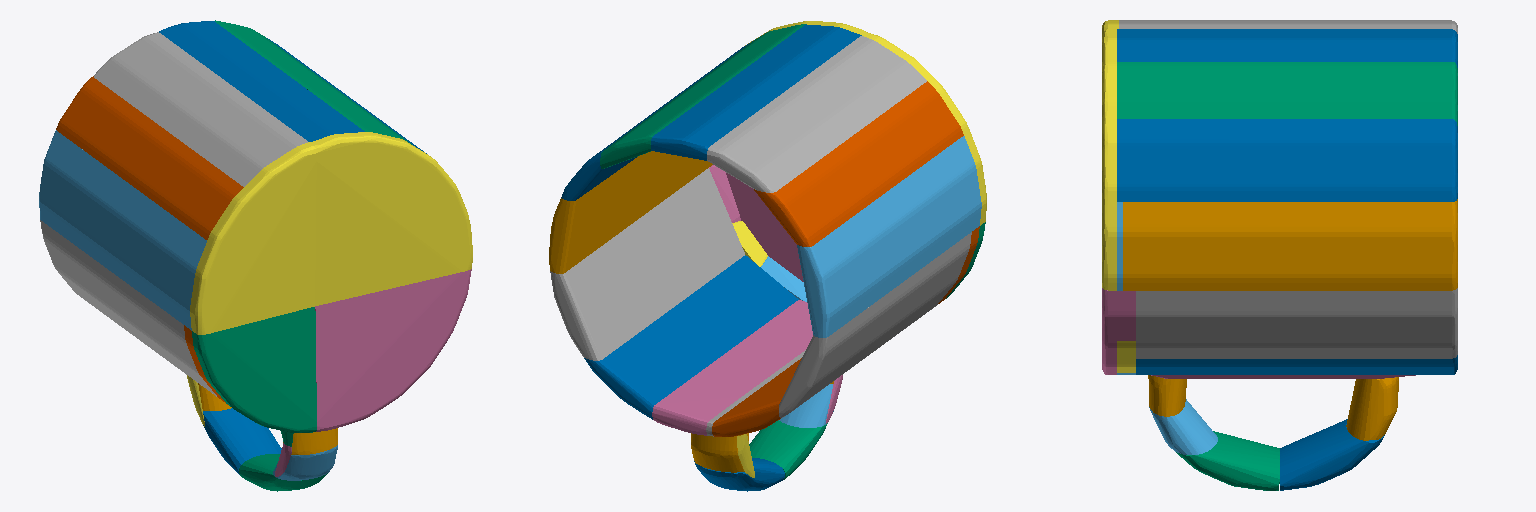
URDF robot description (root):
<robot name="root">
  <link name="link_convex_piece_028.obj">
    <inertial>
      <origin xyz="0 0 0" rpy="0 0 0"/>
    </inertial>
    <visual>
      <origin xyz="0 0 0" rpy="0 0 0"/>
      <geometry>
        <mesh filename="meshes/convex_piece_028.obj" scale="1.0 1.0 1.0"/>
      </geometry>
    </visual>
    <collision>
      <origin xyz="0 0 0" rpy="0 0 0"/>
      <geometry>
        <mesh filename="meshes/convex_piece_028.obj" scale="1.0 1.0 1.0"/>
      </geometry>
    </collision>
  </link>
  <link name="link_convex_piece_018.obj">
    <inertial>
      <origin xyz="0 0 0" rpy="0 0 0"/>
    </inertial>
    <visual>
      <origin xyz="0 0 0" rpy="0 0 0"/>
      <geometry>
        <mesh filename="meshes/convex_piece_018.obj" scale="1.0 1.0 1.0"/>
      </geometry>
    </visual>
    <collision>
      <origin xyz="0 0 0" rpy="0 0 0"/>
      <geometry>
        <mesh filename="meshes/convex_piece_018.obj" scale="1.0 1.0 1.0"/>
      </geometry>
    </collision>
  </link>
  <joint name="link_convex_piece_018.obj_joint" type="fixed">
    <origin xyz="0 0 0" rpy="0 0 0"/>
    <parent link="link_convex_piece_028.obj"/>
    <child link="link_convex_piece_018.obj"/>
  </joint>
  <link name="link_convex_piece_026.obj">
    <inertial>
      <origin xyz="0 0 0" rpy="0 0 0"/>
    </inertial>
    <visual>
      <origin xyz="0 0 0" rpy="0 0 0"/>
      <geometry>
        <mesh filename="meshes/convex_piece_026.obj" scale="1.0 1.0 1.0"/>
      </geometry>
    </visual>
    <collision>
      <origin xyz="0 0 0" rpy="0 0 0"/>
      <geometry>
        <mesh filename="meshes/convex_piece_026.obj" scale="1.0 1.0 1.0"/>
      </geometry>
    </collision>
  </link>
  <joint name="link_convex_piece_026.obj_joint" type="fixed">
    <origin xyz="0 0 0" rpy="0 0 0"/>
    <parent link="link_convex_piece_018.obj"/>
    <child link="link_convex_piece_026.obj"/>
  </joint>
  <link name="link_convex_piece_021.obj">
    <inertial>
      <origin xyz="0 0 0" rpy="0 0 0"/>
    </inertial>
    <visual>
      <origin xyz="0 0 0" rpy="0 0 0"/>
      <geometry>
        <mesh filename="meshes/convex_piece_021.obj" scale="1.0 1.0 1.0"/>
      </geometry>
    </visual>
    <collision>
      <origin xyz="0 0 0" rpy="0 0 0"/>
      <geometry>
        <mesh filename="meshes/convex_piece_021.obj" scale="1.0 1.0 1.0"/>
      </geometry>
    </collision>
  </link>
  <joint name="link_convex_piece_021.obj_joint" type="fixed">
    <origin xyz="0 0 0" rpy="0 0 0"/>
    <parent link="link_convex_piece_026.obj"/>
    <child link="link_convex_piece_021.obj"/>
  </joint>
  <link name="link_convex_piece_030.obj">
    <inertial>
      <origin xyz="0 0 0" rpy="0 0 0"/>
    </inertial>
    <visual>
      <origin xyz="0 0 0" rpy="0 0 0"/>
      <geometry>
        <mesh filename="meshes/convex_piece_030.obj" scale="1.0 1.0 1.0"/>
      </geometry>
    </visual>
    <collision>
      <origin xyz="0 0 0" rpy="0 0 0"/>
      <geometry>
        <mesh filename="meshes/convex_piece_030.obj" scale="1.0 1.0 1.0"/>
      </geometry>
    </collision>
  </link>
  <joint name="link_convex_piece_030.obj_joint" type="fixed">
    <origin xyz="0 0 0" rpy="0 0 0"/>
    <parent link="link_convex_piece_021.obj"/>
    <child link="link_convex_piece_030.obj"/>
  </joint>
  <link name="link_convex_piece_012.obj">
    <inertial>
      <origin xyz="0 0 0" rpy="0 0 0"/>
    </inertial>
    <visual>
      <origin xyz="0 0 0" rpy="0 0 0"/>
      <geometry>
        <mesh filename="meshes/convex_piece_012.obj" scale="1.0 1.0 1.0"/>
      </geometry>
    </visual>
    <collision>
      <origin xyz="0 0 0" rpy="0 0 0"/>
      <geometry>
        <mesh filename="meshes/convex_piece_012.obj" scale="1.0 1.0 1.0"/>
      </geometry>
    </collision>
  </link>
  <joint name="link_convex_piece_012.obj_joint" type="fixed">
    <origin xyz="0 0 0" rpy="0 0 0"/>
    <parent link="link_convex_piece_030.obj"/>
    <child link="link_convex_piece_012.obj"/>
  </joint>
  <link name="link_convex_piece_019.obj">
    <inertial>
      <origin xyz="0 0 0" rpy="0 0 0"/>
    </inertial>
    <visual>
      <origin xyz="0 0 0" rpy="0 0 0"/>
      <geometry>
        <mesh filename="meshes/convex_piece_019.obj" scale="1.0 1.0 1.0"/>
      </geometry>
    </visual>
    <collision>
      <origin xyz="0 0 0" rpy="0 0 0"/>
      <geometry>
        <mesh filename="meshes/convex_piece_019.obj" scale="1.0 1.0 1.0"/>
      </geometry>
    </collision>
  </link>
  <joint name="link_convex_piece_019.obj_joint" type="fixed">
    <origin xyz="0 0 0" rpy="0 0 0"/>
    <parent link="link_convex_piece_012.obj"/>
    <child link="link_convex_piece_019.obj"/>
  </joint>
  <link name="link_convex_piece_014.obj">
    <inertial>
      <origin xyz="0 0 0" rpy="0 0 0"/>
    </inertial>
    <visual>
      <origin xyz="0 0 0" rpy="0 0 0"/>
      <geometry>
        <mesh filename="meshes/convex_piece_014.obj" scale="1.0 1.0 1.0"/>
      </geometry>
    </visual>
    <collision>
      <origin xyz="0 0 0" rpy="0 0 0"/>
      <geometry>
        <mesh filename="meshes/convex_piece_014.obj" scale="1.0 1.0 1.0"/>
      </geometry>
    </collision>
  </link>
  <joint name="link_convex_piece_014.obj_joint" type="fixed">
    <origin xyz="0 0 0" rpy="0 0 0"/>
    <parent link="link_convex_piece_019.obj"/>
    <child link="link_convex_piece_014.obj"/>
  </joint>
  <link name="link_convex_piece_020.obj">
    <inertial>
      <origin xyz="0 0 0" rpy="0 0 0"/>
    </inertial>
    <visual>
      <origin xyz="0 0 0" rpy="0 0 0"/>
      <geometry>
        <mesh filename="meshes/convex_piece_020.obj" scale="1.0 1.0 1.0"/>
      </geometry>
    </visual>
    <collision>
      <origin xyz="0 0 0" rpy="0 0 0"/>
      <geometry>
        <mesh filename="meshes/convex_piece_020.obj" scale="1.0 1.0 1.0"/>
      </geometry>
    </collision>
  </link>
  <joint name="link_convex_piece_020.obj_joint" type="fixed">
    <origin xyz="0 0 0" rpy="0 0 0"/>
    <parent link="link_convex_piece_014.obj"/>
    <child link="link_convex_piece_020.obj"/>
  </joint>
  <link name="link_convex_piece_004.obj">
    <inertial>
      <origin xyz="0 0 0" rpy="0 0 0"/>
    </inertial>
    <visual>
      <origin xyz="0 0 0" rpy="0 0 0"/>
      <geometry>
        <mesh filename="meshes/convex_piece_004.obj" scale="1.0 1.0 1.0"/>
      </geometry>
    </visual>
    <collision>
      <origin xyz="0 0 0" rpy="0 0 0"/>
      <geometry>
        <mesh filename="meshes/convex_piece_004.obj" scale="1.0 1.0 1.0"/>
      </geometry>
    </collision>
  </link>
  <joint name="link_convex_piece_004.obj_joint" type="fixed">
    <origin xyz="0 0 0" rpy="0 0 0"/>
    <parent link="link_convex_piece_020.obj"/>
    <child link="link_convex_piece_004.obj"/>
  </joint>
  <link name="link_convex_piece_027.obj">
    <inertial>
      <origin xyz="0 0 0" rpy="0 0 0"/>
    </inertial>
    <visual>
      <origin xyz="0 0 0" rpy="0 0 0"/>
      <geometry>
        <mesh filename="meshes/convex_piece_027.obj" scale="1.0 1.0 1.0"/>
      </geometry>
    </visual>
    <collision>
      <origin xyz="0 0 0" rpy="0 0 0"/>
      <geometry>
        <mesh filename="meshes/convex_piece_027.obj" scale="1.0 1.0 1.0"/>
      </geometry>
    </collision>
  </link>
  <joint name="link_convex_piece_027.obj_joint" type="fixed">
    <origin xyz="0 0 0" rpy="0 0 0"/>
    <parent link="link_convex_piece_004.obj"/>
    <child link="link_convex_piece_027.obj"/>
  </joint>
  <link name="link_convex_piece_001.obj">
    <inertial>
      <origin xyz="0 0 0" rpy="0 0 0"/>
    </inertial>
    <visual>
      <origin xyz="0 0 0" rpy="0 0 0"/>
      <geometry>
        <mesh filename="meshes/convex_piece_001.obj" scale="1.0 1.0 1.0"/>
      </geometry>
    </visual>
    <collision>
      <origin xyz="0 0 0" rpy="0 0 0"/>
      <geometry>
        <mesh filename="meshes/convex_piece_001.obj" scale="1.0 1.0 1.0"/>
      </geometry>
    </collision>
  </link>
  <joint name="link_convex_piece_001.obj_joint" type="fixed">
    <origin xyz="0 0 0" rpy="0 0 0"/>
    <parent link="link_convex_piece_027.obj"/>
    <child link="link_convex_piece_001.obj"/>
  </joint>
  <link name="link_convex_piece_015.obj">
    <inertial>
      <origin xyz="0 0 0" rpy="0 0 0"/>
    </inertial>
    <visual>
      <origin xyz="0 0 0" rpy="0 0 0"/>
      <geometry>
        <mesh filename="meshes/convex_piece_015.obj" scale="1.0 1.0 1.0"/>
      </geometry>
    </visual>
    <collision>
      <origin xyz="0 0 0" rpy="0 0 0"/>
      <geometry>
        <mesh filename="meshes/convex_piece_015.obj" scale="1.0 1.0 1.0"/>
      </geometry>
    </collision>
  </link>
  <joint name="link_convex_piece_015.obj_joint" type="fixed">
    <origin xyz="0 0 0" rpy="0 0 0"/>
    <parent link="link_convex_piece_001.obj"/>
    <child link="link_convex_piece_015.obj"/>
  </joint>
  <link name="link_convex_piece_005.obj">
    <inertial>
      <origin xyz="0 0 0" rpy="0 0 0"/>
    </inertial>
    <visual>
      <origin xyz="0 0 0" rpy="0 0 0"/>
      <geometry>
        <mesh filename="meshes/convex_piece_005.obj" scale="1.0 1.0 1.0"/>
      </geometry>
    </visual>
    <collision>
      <origin xyz="0 0 0" rpy="0 0 0"/>
      <geometry>
        <mesh filename="meshes/convex_piece_005.obj" scale="1.0 1.0 1.0"/>
      </geometry>
    </collision>
  </link>
  <joint name="link_convex_piece_005.obj_joint" type="fixed">
    <origin xyz="0 0 0" rpy="0 0 0"/>
    <parent link="link_convex_piece_015.obj"/>
    <child link="link_convex_piece_005.obj"/>
  </joint>
  <link name="link_convex_piece_024.obj">
    <inertial>
      <origin xyz="0 0 0" rpy="0 0 0"/>
    </inertial>
    <visual>
      <origin xyz="0 0 0" rpy="0 0 0"/>
      <geometry>
        <mesh filename="meshes/convex_piece_024.obj" scale="1.0 1.0 1.0"/>
      </geometry>
    </visual>
    <collision>
      <origin xyz="0 0 0" rpy="0 0 0"/>
      <geometry>
        <mesh filename="meshes/convex_piece_024.obj" scale="1.0 1.0 1.0"/>
      </geometry>
    </collision>
  </link>
  <joint name="link_convex_piece_024.obj_joint" type="fixed">
    <origin xyz="0 0 0" rpy="0 0 0"/>
    <parent link="link_convex_piece_005.obj"/>
    <child link="link_convex_piece_024.obj"/>
  </joint>
  <link name="link_convex_piece_013.obj">
    <inertial>
      <origin xyz="0 0 0" rpy="0 0 0"/>
    </inertial>
    <visual>
      <origin xyz="0 0 0" rpy="0 0 0"/>
      <geometry>
        <mesh filename="meshes/convex_piece_013.obj" scale="1.0 1.0 1.0"/>
      </geometry>
    </visual>
    <collision>
      <origin xyz="0 0 0" rpy="0 0 0"/>
      <geometry>
        <mesh filename="meshes/convex_piece_013.obj" scale="1.0 1.0 1.0"/>
      </geometry>
    </collision>
  </link>
  <joint name="link_convex_piece_013.obj_joint" type="fixed">
    <origin xyz="0 0 0" rpy="0 0 0"/>
    <parent link="link_convex_piece_024.obj"/>
    <child link="link_convex_piece_013.obj"/>
  </joint>
  <link name="link_convex_piece_029.obj">
    <inertial>
      <origin xyz="0 0 0" rpy="0 0 0"/>
    </inertial>
    <visual>
      <origin xyz="0 0 0" rpy="0 0 0"/>
      <geometry>
        <mesh filename="meshes/convex_piece_029.obj" scale="1.0 1.0 1.0"/>
      </geometry>
    </visual>
    <collision>
      <origin xyz="0 0 0" rpy="0 0 0"/>
      <geometry>
        <mesh filename="meshes/convex_piece_029.obj" scale="1.0 1.0 1.0"/>
      </geometry>
    </collision>
  </link>
  <joint name="link_convex_piece_029.obj_joint" type="fixed">
    <origin xyz="0 0 0" rpy="0 0 0"/>
    <parent link="link_convex_piece_013.obj"/>
    <child link="link_convex_piece_029.obj"/>
  </joint>
  <link name="link_convex_piece_032.obj">
    <inertial>
      <origin xyz="0 0 0" rpy="0 0 0"/>
    </inertial>
    <visual>
      <origin xyz="0 0 0" rpy="0 0 0"/>
      <geometry>
        <mesh filename="meshes/convex_piece_032.obj" scale="1.0 1.0 1.0"/>
      </geometry>
    </visual>
    <collision>
      <origin xyz="0 0 0" rpy="0 0 0"/>
      <geometry>
        <mesh filename="meshes/convex_piece_032.obj" scale="1.0 1.0 1.0"/>
      </geometry>
    </collision>
  </link>
  <joint name="link_convex_piece_032.obj_joint" type="fixed">
    <origin xyz="0 0 0" rpy="0 0 0"/>
    <parent link="link_convex_piece_029.obj"/>
    <child link="link_convex_piece_032.obj"/>
  </joint>
  <link name="link_convex_piece_002.obj">
    <inertial>
      <origin xyz="0 0 0" rpy="0 0 0"/>
    </inertial>
    <visual>
      <origin xyz="0 0 0" rpy="0 0 0"/>
      <geometry>
        <mesh filename="meshes/convex_piece_002.obj" scale="1.0 1.0 1.0"/>
      </geometry>
    </visual>
    <collision>
      <origin xyz="0 0 0" rpy="0 0 0"/>
      <geometry>
        <mesh filename="meshes/convex_piece_002.obj" scale="1.0 1.0 1.0"/>
      </geometry>
    </collision>
  </link>
  <joint name="link_convex_piece_002.obj_joint" type="fixed">
    <origin xyz="0 0 0" rpy="0 0 0"/>
    <parent link="link_convex_piece_032.obj"/>
    <child link="link_convex_piece_002.obj"/>
  </joint>
  <link name="link_convex_piece_025.obj">
    <inertial>
      <origin xyz="0 0 0" rpy="0 0 0"/>
    </inertial>
    <visual>
      <origin xyz="0 0 0" rpy="0 0 0"/>
      <geometry>
        <mesh filename="meshes/convex_piece_025.obj" scale="1.0 1.0 1.0"/>
      </geometry>
    </visual>
    <collision>
      <origin xyz="0 0 0" rpy="0 0 0"/>
      <geometry>
        <mesh filename="meshes/convex_piece_025.obj" scale="1.0 1.0 1.0"/>
      </geometry>
    </collision>
  </link>
  <joint name="link_convex_piece_025.obj_joint" type="fixed">
    <origin xyz="0 0 0" rpy="0 0 0"/>
    <parent link="link_convex_piece_002.obj"/>
    <child link="link_convex_piece_025.obj"/>
  </joint>
  <link name="link_convex_piece_010.obj">
    <inertial>
      <origin xyz="0 0 0" rpy="0 0 0"/>
    </inertial>
    <visual>
      <origin xyz="0 0 0" rpy="0 0 0"/>
      <geometry>
        <mesh filename="meshes/convex_piece_010.obj" scale="1.0 1.0 1.0"/>
      </geometry>
    </visual>
    <collision>
      <origin xyz="0 0 0" rpy="0 0 0"/>
      <geometry>
        <mesh filename="meshes/convex_piece_010.obj" scale="1.0 1.0 1.0"/>
      </geometry>
    </collision>
  </link>
  <joint name="link_convex_piece_010.obj_joint" type="fixed">
    <origin xyz="0 0 0" rpy="0 0 0"/>
    <parent link="link_convex_piece_025.obj"/>
    <child link="link_convex_piece_010.obj"/>
  </joint>
  <link name="link_convex_piece_006.obj">
    <inertial>
      <origin xyz="0 0 0" rpy="0 0 0"/>
    </inertial>
    <visual>
      <origin xyz="0 0 0" rpy="0 0 0"/>
      <geometry>
        <mesh filename="meshes/convex_piece_006.obj" scale="1.0 1.0 1.0"/>
      </geometry>
    </visual>
    <collision>
      <origin xyz="0 0 0" rpy="0 0 0"/>
      <geometry>
        <mesh filename="meshes/convex_piece_006.obj" scale="1.0 1.0 1.0"/>
      </geometry>
    </collision>
  </link>
  <joint name="link_convex_piece_006.obj_joint" type="fixed">
    <origin xyz="0 0 0" rpy="0 0 0"/>
    <parent link="link_convex_piece_010.obj"/>
    <child link="link_convex_piece_006.obj"/>
  </joint>
  <link name="link_convex_piece_003.obj">
    <inertial>
      <origin xyz="0 0 0" rpy="0 0 0"/>
    </inertial>
    <visual>
      <origin xyz="0 0 0" rpy="0 0 0"/>
      <geometry>
        <mesh filename="meshes/convex_piece_003.obj" scale="1.0 1.0 1.0"/>
      </geometry>
    </visual>
    <collision>
      <origin xyz="0 0 0" rpy="0 0 0"/>
      <geometry>
        <mesh filename="meshes/convex_piece_003.obj" scale="1.0 1.0 1.0"/>
      </geometry>
    </collision>
  </link>
  <joint name="link_convex_piece_003.obj_joint" type="fixed">
    <origin xyz="0 0 0" rpy="0 0 0"/>
    <parent link="link_convex_piece_006.obj"/>
    <child link="link_convex_piece_003.obj"/>
  </joint>
  <link name="link_convex_piece_008.obj">
    <inertial>
      <origin xyz="0 0 0" rpy="0 0 0"/>
    </inertial>
    <visual>
      <origin xyz="0 0 0" rpy="0 0 0"/>
      <geometry>
        <mesh filename="meshes/convex_piece_008.obj" scale="1.0 1.0 1.0"/>
      </geometry>
    </visual>
    <collision>
      <origin xyz="0 0 0" rpy="0 0 0"/>
      <geometry>
        <mesh filename="meshes/convex_piece_008.obj" scale="1.0 1.0 1.0"/>
      </geometry>
    </collision>
  </link>
  <joint name="link_convex_piece_008.obj_joint" type="fixed">
    <origin xyz="0 0 0" rpy="0 0 0"/>
    <parent link="link_convex_piece_003.obj"/>
    <child link="link_convex_piece_008.obj"/>
  </joint>
  <link name="link_convex_piece_023.obj">
    <inertial>
      <origin xyz="0 0 0" rpy="0 0 0"/>
    </inertial>
    <visual>
      <origin xyz="0 0 0" rpy="0 0 0"/>
      <geometry>
        <mesh filename="meshes/convex_piece_023.obj" scale="1.0 1.0 1.0"/>
      </geometry>
    </visual>
    <collision>
      <origin xyz="0 0 0" rpy="0 0 0"/>
      <geometry>
        <mesh filename="meshes/convex_piece_023.obj" scale="1.0 1.0 1.0"/>
      </geometry>
    </collision>
  </link>
  <joint name="link_convex_piece_023.obj_joint" type="fixed">
    <origin xyz="0 0 0" rpy="0 0 0"/>
    <parent link="link_convex_piece_008.obj"/>
    <child link="link_convex_piece_023.obj"/>
  </joint>
  <link name="link_convex_piece_022.obj">
    <inertial>
      <origin xyz="0 0 0" rpy="0 0 0"/>
    </inertial>
    <visual>
      <origin xyz="0 0 0" rpy="0 0 0"/>
      <geometry>
        <mesh filename="meshes/convex_piece_022.obj" scale="1.0 1.0 1.0"/>
      </geometry>
    </visual>
    <collision>
      <origin xyz="0 0 0" rpy="0 0 0"/>
      <geometry>
        <mesh filename="meshes/convex_piece_022.obj" scale="1.0 1.0 1.0"/>
      </geometry>
    </collision>
  </link>
  <joint name="link_convex_piece_022.obj_joint" type="fixed">
    <origin xyz="0 0 0" rpy="0 0 0"/>
    <parent link="link_convex_piece_023.obj"/>
    <child link="link_convex_piece_022.obj"/>
  </joint>
  <link name="link_convex_piece_011.obj">
    <inertial>
      <origin xyz="0 0 0" rpy="0 0 0"/>
    </inertial>
    <visual>
      <origin xyz="0 0 0" rpy="0 0 0"/>
      <geometry>
        <mesh filename="meshes/convex_piece_011.obj" scale="1.0 1.0 1.0"/>
      </geometry>
    </visual>
    <collision>
      <origin xyz="0 0 0" rpy="0 0 0"/>
      <geometry>
        <mesh filename="meshes/convex_piece_011.obj" scale="1.0 1.0 1.0"/>
      </geometry>
    </collision>
  </link>
  <joint name="link_convex_piece_011.obj_joint" type="fixed">
    <origin xyz="0 0 0" rpy="0 0 0"/>
    <parent link="link_convex_piece_022.obj"/>
    <child link="link_convex_piece_011.obj"/>
  </joint>
  <link name="link_convex_piece_000.obj">
    <inertial>
      <origin xyz="0 0 0" rpy="0 0 0"/>
    </inertial>
    <visual>
      <origin xyz="0 0 0" rpy="0 0 0"/>
      <geometry>
        <mesh filename="meshes/convex_piece_000.obj" scale="1.0 1.0 1.0"/>
      </geometry>
    </visual>
    <collision>
      <origin xyz="0 0 0" rpy="0 0 0"/>
      <geometry>
        <mesh filename="meshes/convex_piece_000.obj" scale="1.0 1.0 1.0"/>
      </geometry>
    </collision>
  </link>
  <joint name="link_convex_piece_000.obj_joint" type="fixed">
    <origin xyz="0 0 0" rpy="0 0 0"/>
    <parent link="link_convex_piece_011.obj"/>
    <child link="link_convex_piece_000.obj"/>
  </joint>
  <link name="link_convex_piece_016.obj">
    <inertial>
      <origin xyz="0 0 0" rpy="0 0 0"/>
    </inertial>
    <visual>
      <origin xyz="0 0 0" rpy="0 0 0"/>
      <geometry>
        <mesh filename="meshes/convex_piece_016.obj" scale="1.0 1.0 1.0"/>
      </geometry>
    </visual>
    <collision>
      <origin xyz="0 0 0" rpy="0 0 0"/>
      <geometry>
        <mesh filename="meshes/convex_piece_016.obj" scale="1.0 1.0 1.0"/>
      </geometry>
    </collision>
  </link>
  <joint name="link_convex_piece_016.obj_joint" type="fixed">
    <origin xyz="0 0 0" rpy="0 0 0"/>
    <parent link="link_convex_piece_000.obj"/>
    <child link="link_convex_piece_016.obj"/>
  </joint>
  <link name="link_convex_piece_009.obj">
    <inertial>
      <origin xyz="0 0 0" rpy="0 0 0"/>
    </inertial>
    <visual>
      <origin xyz="0 0 0" rpy="0 0 0"/>
      <geometry>
        <mesh filename="meshes/convex_piece_009.obj" scale="1.0 1.0 1.0"/>
      </geometry>
    </visual>
    <collision>
      <origin xyz="0 0 0" rpy="0 0 0"/>
      <geometry>
        <mesh filename="meshes/convex_piece_009.obj" scale="1.0 1.0 1.0"/>
      </geometry>
    </collision>
  </link>
  <joint name="link_convex_piece_009.obj_joint" type="fixed">
    <origin xyz="0 0 0" rpy="0 0 0"/>
    <parent link="link_convex_piece_016.obj"/>
    <child link="link_convex_piece_009.obj"/>
  </joint>
  <link name="link_convex_piece_007.obj">
    <inertial>
      <origin xyz="0 0 0" rpy="0 0 0"/>
    </inertial>
    <visual>
      <origin xyz="0 0 0" rpy="0 0 0"/>
      <geometry>
        <mesh filename="meshes/convex_piece_007.obj" scale="1.0 1.0 1.0"/>
      </geometry>
    </visual>
    <collision>
      <origin xyz="0 0 0" rpy="0 0 0"/>
      <geometry>
        <mesh filename="meshes/convex_piece_007.obj" scale="1.0 1.0 1.0"/>
      </geometry>
    </collision>
  </link>
  <joint name="link_convex_piece_007.obj_joint" type="fixed">
    <origin xyz="0 0 0" rpy="0 0 0"/>
    <parent link="link_convex_piece_009.obj"/>
    <child link="link_convex_piece_007.obj"/>
  </joint>
  <link name="link_convex_piece_017.obj">
    <inertial>
      <origin xyz="0 0 0" rpy="0 0 0"/>
    </inertial>
    <visual>
      <origin xyz="0 0 0" rpy="0 0 0"/>
      <geometry>
        <mesh filename="meshes/convex_piece_017.obj" scale="1.0 1.0 1.0"/>
      </geometry>
    </visual>
    <collision>
      <origin xyz="0 0 0" rpy="0 0 0"/>
      <geometry>
        <mesh filename="meshes/convex_piece_017.obj" scale="1.0 1.0 1.0"/>
      </geometry>
    </collision>
  </link>
  <joint name="link_convex_piece_017.obj_joint" type="fixed">
    <origin xyz="0 0 0" rpy="0 0 0"/>
    <parent link="link_convex_piece_007.obj"/>
    <child link="link_convex_piece_017.obj"/>
  </joint>
  <link name="link_convex_piece_031.obj">
    <inertial>
      <origin xyz="0 0 0" rpy="0 0 0"/>
    </inertial>
    <visual>
      <origin xyz="0 0 0" rpy="0 0 0"/>
      <geometry>
        <mesh filename="meshes/convex_piece_031.obj" scale="1.0 1.0 1.0"/>
      </geometry>
    </visual>
    <collision>
      <origin xyz="0 0 0" rpy="0 0 0"/>
      <geometry>
        <mesh filename="meshes/convex_piece_031.obj" scale="1.0 1.0 1.0"/>
      </geometry>
    </collision>
  </link>
  <joint name="link_convex_piece_031.obj_joint" type="fixed">
    <origin xyz="0 0 0" rpy="0 0 0"/>
    <parent link="link_convex_piece_017.obj"/>
    <child link="link_convex_piece_031.obj"/>
  </joint>
</robot>

--- Render facts (derived) ---
3 views of the same robot in one strip: view 1: azimuth 30°, elevation 25°; view 2: azimuth 150°, elevation 25°; view 3: azimuth 270°, elevation 25° (orthographic).
Model root with 33 links and 32 joints (32 fixed), rooted at link_convex_piece_028.obj, posed every joint at zero.
Links seen in each view (by area): view 1: link_convex_piece_001.obj, link_convex_piece_000.obj, link_convex_piece_003.obj, link_convex_piece_004.obj, link_convex_piece_017.obj, link_convex_piece_012.obj, link_convex_piece_002.obj, link_convex_piece_010.obj, link_convex_piece_014.obj, link_convex_piece_011.obj, link_convex_piece_030.obj, link_convex_piece_027.obj (+2 smaller); view 2: link_convex_piece_013.obj, link_convex_piece_004.obj, link_convex_piece_017.obj, link_convex_piece_012.obj, link_convex_piece_016.obj, link_convex_piece_010.obj, link_convex_piece_014.obj, link_convex_piece_023.obj, link_convex_piece_007.obj, link_convex_piece_011.obj, link_convex_piece_003.obj, link_convex_piece_009.obj (+10 smaller); view 3: link_convex_piece_023.obj, link_convex_piece_015.obj, link_convex_piece_013.obj, link_convex_piece_011.obj, link_convex_piece_010.obj, link_convex_piece_016.obj, link_convex_piece_030.obj, link_convex_piece_001.obj, link_convex_piece_027.obj, link_convex_piece_017.obj, link_convex_piece_029.obj, link_convex_piece_032.obj (+6 smaller).
Link boxes in pixels (x1,y1,x2,y2): link_convex_piece_001.obj: [310, 132, 472, 305]; link_convex_piece_000.obj: [190, 142, 316, 334]; link_convex_piece_003.obj: [315, 269, 471, 431]; link_convex_piece_004.obj: [39, 130, 206, 330]; link_convex_piece_017.obj: [94, 32, 307, 186]; link_convex_piece_012.obj: [56, 76, 243, 239]; link_convex_piece_002.obj: [192, 307, 316, 432]; link_convex_piece_010.obj: [159, 21, 364, 141]; link_convex_piece_014.obj: [40, 220, 216, 396]; link_convex_piece_011.obj: [215, 20, 411, 144]; link_convex_piece_030.obj: [203, 408, 281, 474]; link_convex_piece_027.obj: [239, 454, 327, 491]; link_convex_piece_013.obj: [550, 168, 744, 360]; link_convex_piece_004.obj: [797, 136, 981, 337]; link_convex_piece_017.obj: [707, 36, 926, 192]; link_convex_piece_012.obj: [754, 81, 963, 246]; link_convex_piece_016.obj: [584, 255, 798, 419]; link_convex_piece_010.obj: [651, 24, 861, 160]; link_convex_piece_014.obj: [779, 232, 971, 417]; link_convex_piece_023.obj: [549, 151, 712, 273]; link_convex_piece_007.obj: [652, 300, 812, 435]; link_convex_piece_011.obj: [600, 24, 805, 168]; link_convex_piece_003.obj: [726, 173, 803, 281]; link_convex_piece_009.obj: [712, 358, 801, 436]; link_convex_piece_023.obj: [1123, 199, 1457, 290]; link_convex_piece_015.obj: [1117, 119, 1457, 201]; link_convex_piece_013.obj: [1136, 288, 1457, 358]; link_convex_piece_011.obj: [1117, 62, 1457, 125]; link_convex_piece_010.obj: [1117, 29, 1457, 67]; link_convex_piece_016.obj: [1136, 355, 1457, 374]; link_convex_piece_030.obj: [1280, 419, 1384, 490]; link_convex_piece_001.obj: [1102, 29, 1116, 290]; link_convex_piece_027.obj: [1176, 431, 1279, 490]; link_convex_piece_017.obj: [1119, 20, 1457, 33]; link_convex_piece_029.obj: [1346, 377, 1398, 440]; link_convex_piece_032.obj: [1149, 399, 1217, 454].
Size in the robot's own frame: 1.03 by 1.03 by 1.41 metres.
Meshes: 33 distinct files referenced, 33 mesh visuals loaded (33 OBJ).
